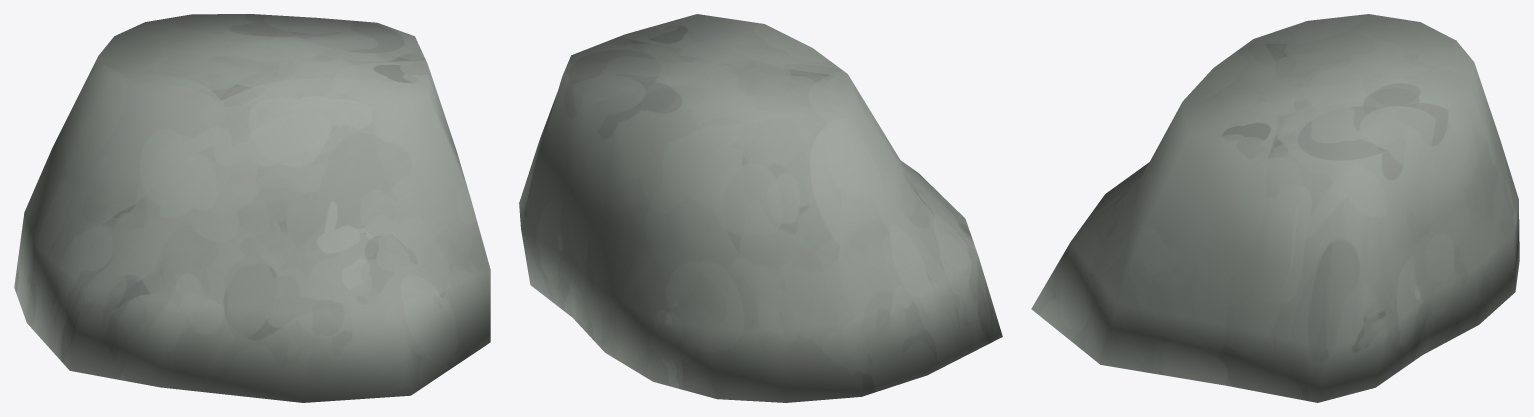
The model's file is SM_Small_Rocks_04.fbx.
3 renders of one model, left to right at view 1: azimuth 30°, elevation 25°; view 2: azimuth 150°, elevation 25°; view 3: azimuth 270°, elevation 25°, orthographic.
Parts seen in each view (by area): view 1: Pedra.003; view 2: Pedra.003; view 3: Pedra.003.
Part boxes in pixels (left/top/right/bottom): Pedra.003: left=14, top=14, right=490, bottom=402; Pedra.003: left=519, top=14, right=1002, bottom=402; Pedra.003: left=1031, top=14, right=1519, bottom=402.
Bounding box in the file's own units: 533 × 273 × 517.
1 material, 1 textured.
